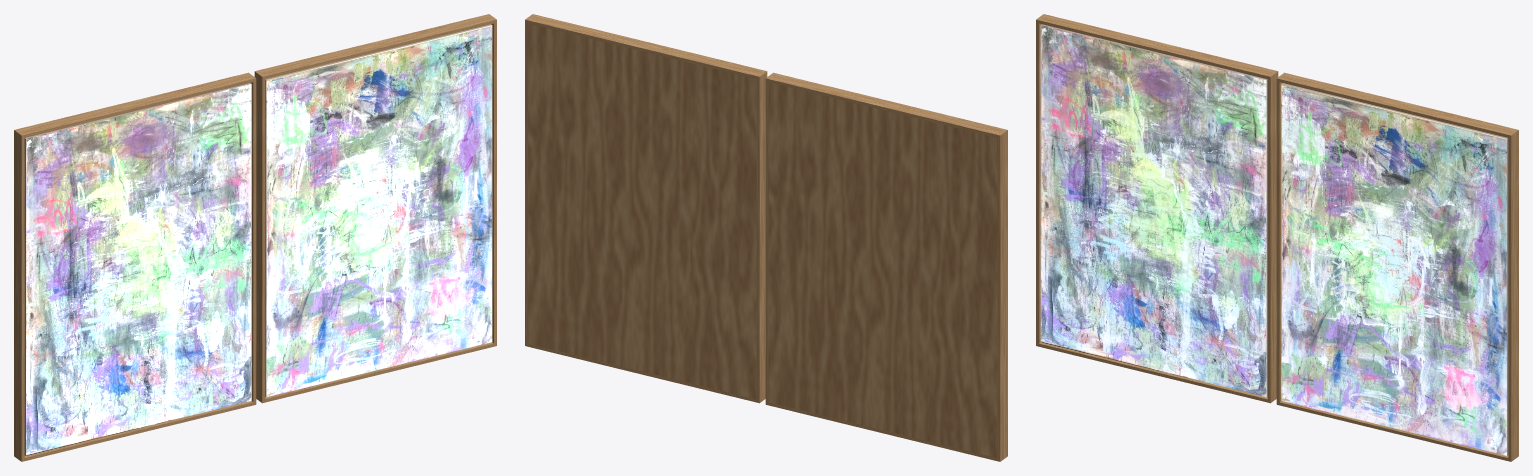
Rendered from lizard-rhapsody-oak.glb.
The picture shows the model from 3 angles, left to right: view 1: azimuth 30°, elevation 25°; view 2: azimuth 150°, elevation 25°; view 3: azimuth 330°, elevation 25°; orthographic projection.
Visible parts, largest first — view 1: painting; view 2: painting; view 3: painting.
Part boxes in pixels (left/top/right/bottom): painting: left=14, top=14, right=496, bottom=461; painting: left=525, top=14, right=1007, bottom=461; painting: left=1036, top=14, right=1518, bottom=461.
Size of the model in its own units: 1.6 by 1.05 by 0.045.
4 materials, 3 textured.
